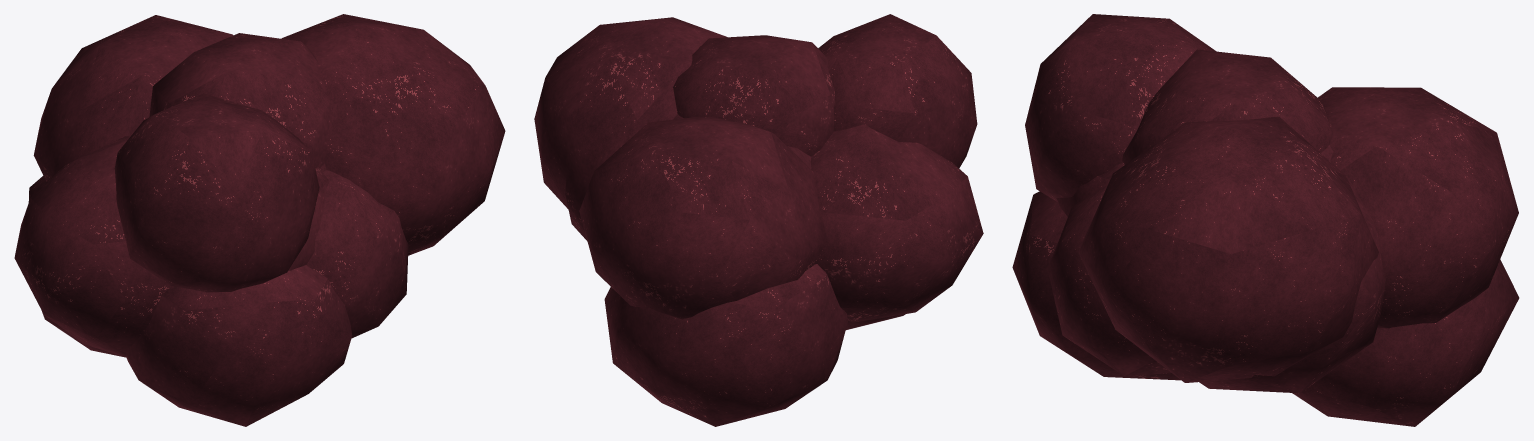
Rendered from red_shrub.glb.
3 views of the same model, side by side, from view 1: azimuth 30°, elevation 25°; view 2: azimuth 150°, elevation 25°; view 3: azimuth 270°, elevation 25° (orthographic). The views are drawn at different scales.
Visible parts, largest first — view 1: red_shrub; view 2: red_shrub; view 3: red_shrub.
Part boxes in pixels (box(x1,y1,x2,y2)): red_shrub: box(14, 14, 505, 426); red_shrub: box(534, 14, 983, 426); red_shrub: box(1012, 14, 1519, 426).
Size of the model in its own units: 2.21 by 1.62 by 2.03.
1 material, 1 textured.
